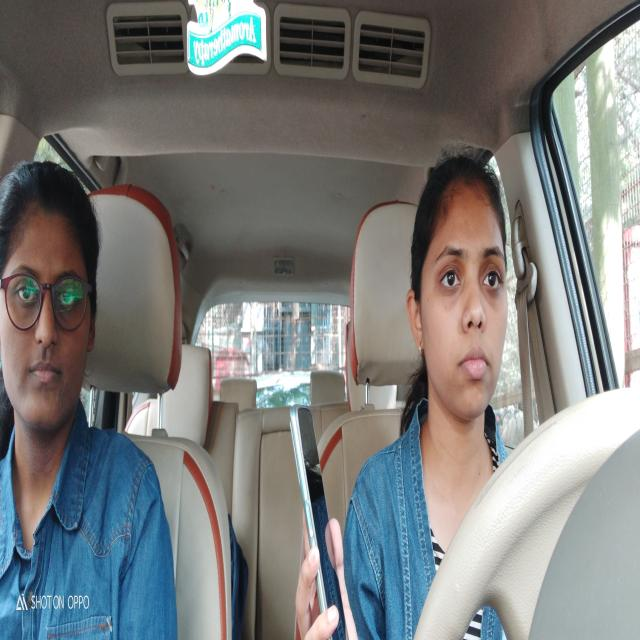mobile: (286, 397, 357, 640)
person: (405, 147, 512, 426), (0, 162, 106, 443)
